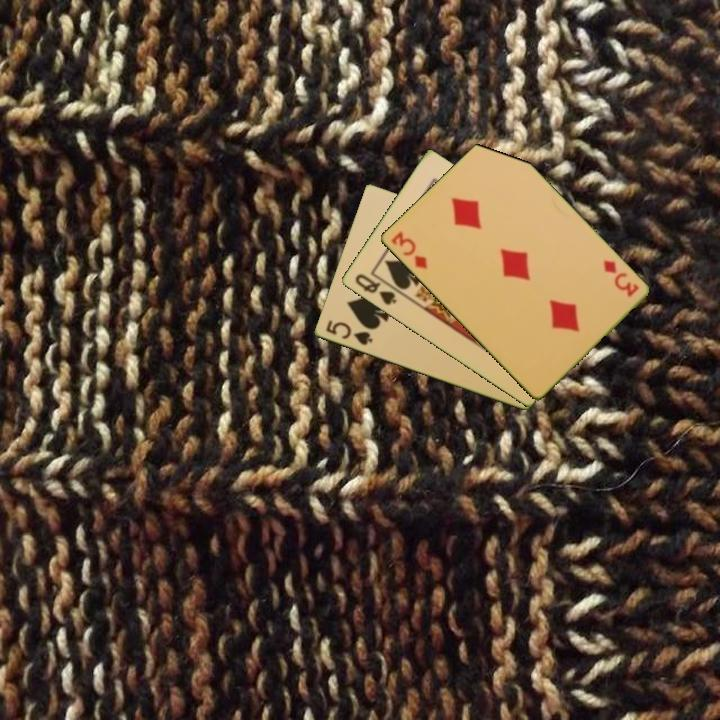3d: (387, 227, 430, 272), (599, 256, 642, 300)
5s: (322, 317, 375, 348)
Qs: (351, 270, 399, 308)
